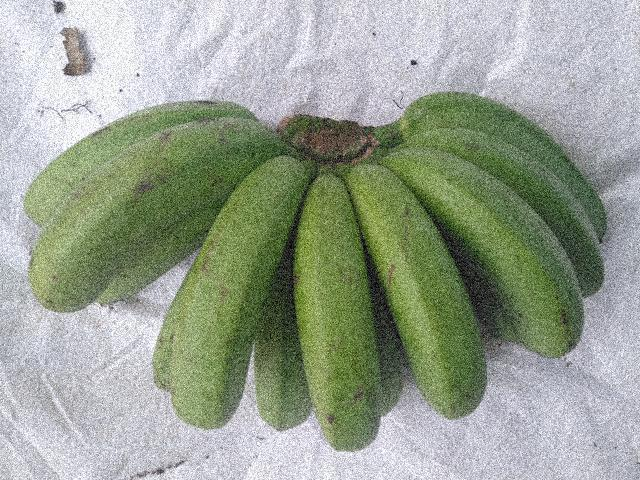unripe: (21, 114, 253, 296), (407, 150, 584, 354), (160, 149, 278, 436), (375, 197, 490, 433), (295, 170, 382, 452)
